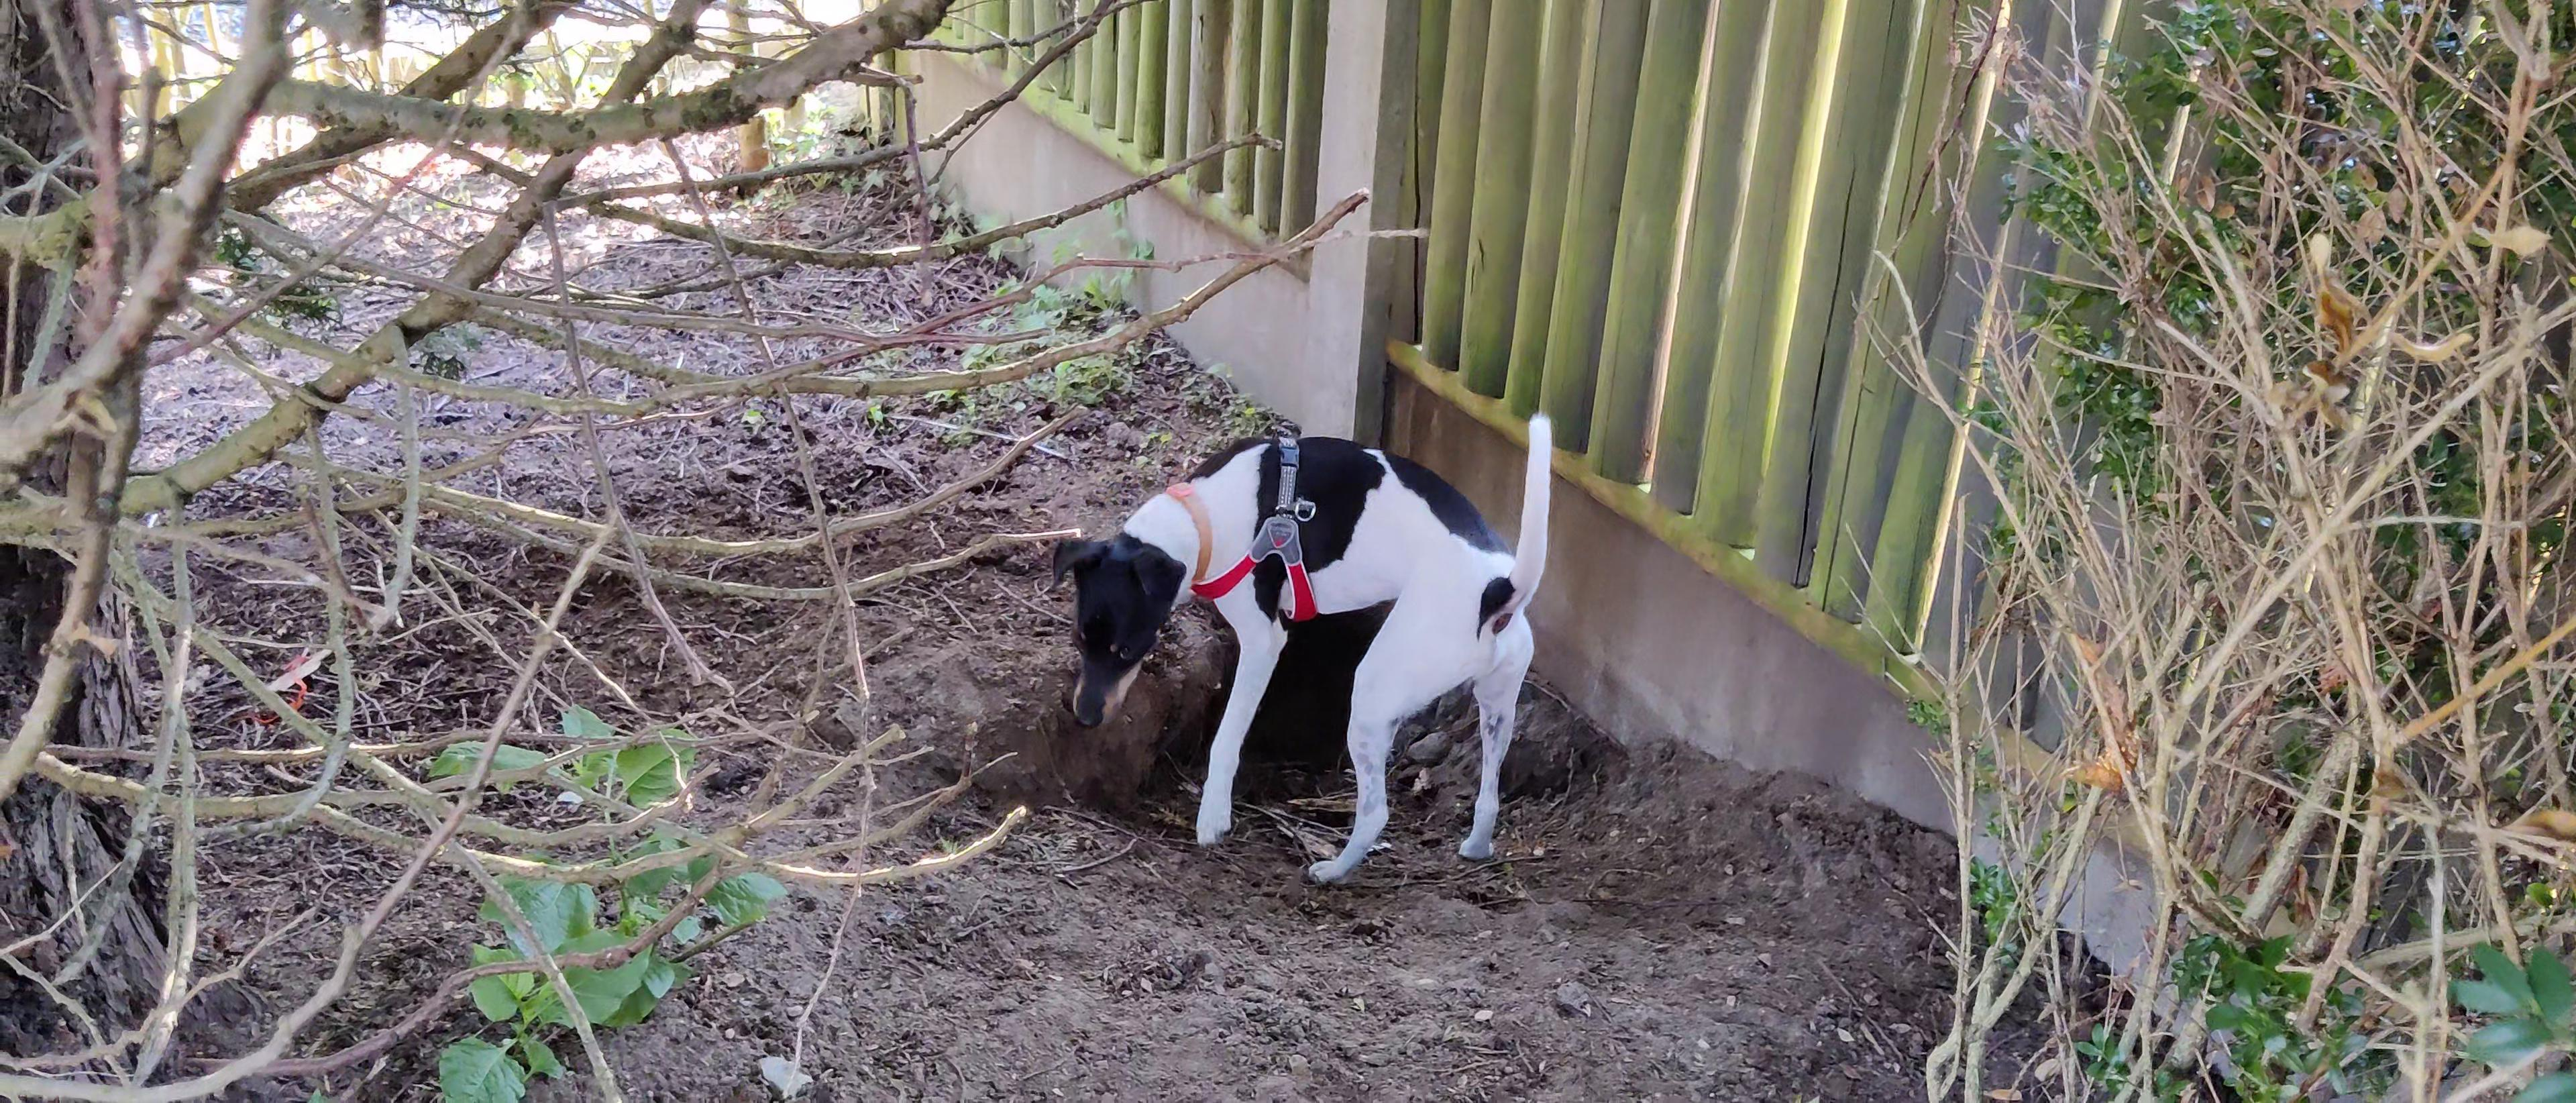Dog: (1043, 398, 1577, 891)
